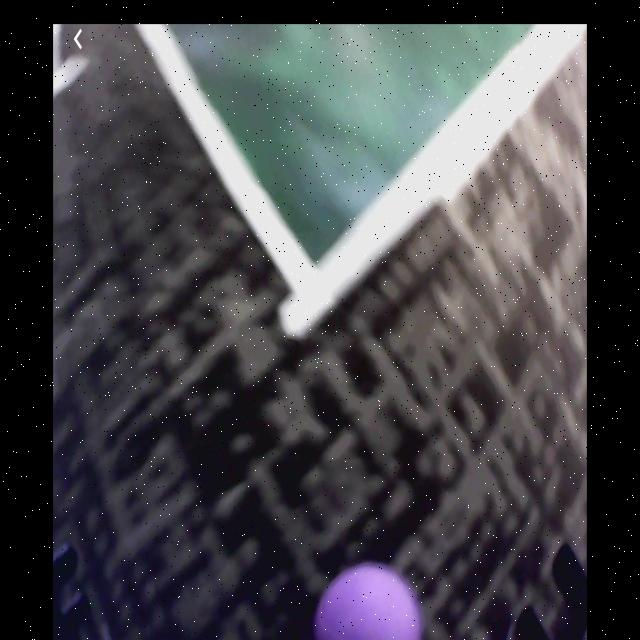ball: (315, 564, 433, 640)
